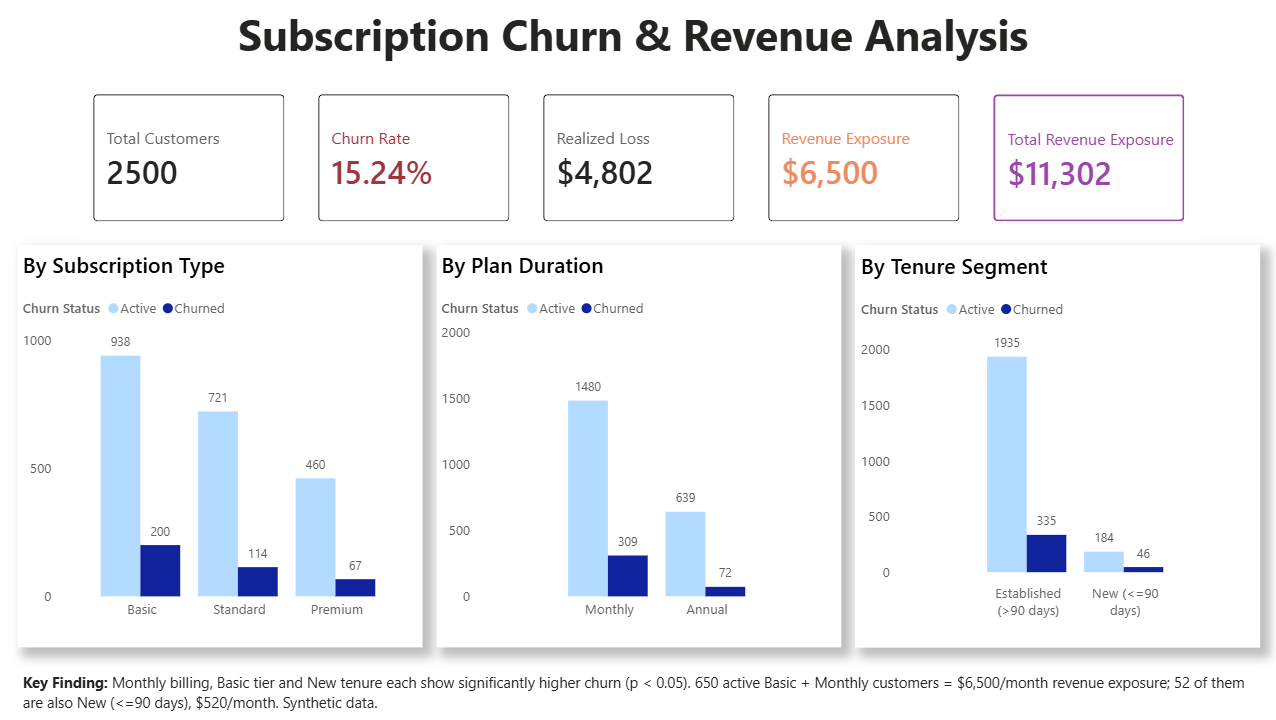

The page's visual inventory and layout, read from the dashboard file:
{"tool":"powerbi","page":{"name":"Page 1","canvas":[1280,720],"ordinal":0},"visuals":[{"type":"clusteredColumnChart","title":"By Subscription Type ","fields":{"Category":["subscription_churn_data.Subscription_Type"],"Series":["subscription_churn_data.Churn_Status"],"Y":["subscription_churn_data.Total Customers"]},"box":[18.3,245,405,402.3],"z":0},{"type":"clusteredColumnChart","title":"By Plan Duration ","fields":{"Category":["subscription_churn_data.Plan_Duration"],"Series":["subscription_churn_data.Churn_Status"],"Y":["subscription_churn_data.Total Customers"]},"box":[437.5,245,405,402.3],"z":1000},{"type":"clusteredColumnChart","title":"By Tenure Segment","fields":{"Category":["subscription_churn_data.Tenure_Segment"],"Series":["subscription_churn_data.Churn_Status"],"Y":["subscription_churn_data.Total Customers"]},"box":[856,245,405,402.3],"z":2000},{"type":"cardVisual","fields":{"Data":["subscription_churn_data.Revenue at Risk"]},"box":[752.5,77.5,225,161.2],"z":3000},{"type":"cardVisual","fields":{"Data":["subscription_churn_data.Realized Loss"]},"box":[527.5,77.5,225,161.2],"z":4000},{"type":"cardVisual","fields":{"Data":["subscription_churn_data.Total Customers"]},"box":[77.5,77.5,225,161.2],"z":5000},{"type":"cardVisual","fields":{"Data":["subscription_churn_data.Churn Rate"]},"box":[302.5,77.5,225,161.2],"z":6000},{"type":"textbox","box":[18.8,0,1242.4,77],"z":7000},{"type":"textbox","box":[18.8,667,1242.5,51.2],"z":8000},{"type":"cardVisual","fields":{"Data":["subscription_churn_data.Total Revenue at Risk"]},"box":[977.5,77.5,225,161.2],"z":9000}]}

Visuals, with their boxes in screenshot pixels (x1, y1, x2, y2), scaled from the page's 1280x720 canvas onto the 1276x720 screenshot:
"By Subscription Type " clusteredColumnChart: locate(18, 245, 422, 647)
"By Plan Duration " clusteredColumnChart: locate(436, 245, 840, 647)
"By Tenure Segment" clusteredColumnChart: locate(853, 245, 1257, 647)
cardVisual - subscription_churn_data.Revenue at Risk: locate(750, 78, 974, 239)
cardVisual - subscription_churn_data.Realized Loss: locate(526, 78, 750, 239)
cardVisual - subscription_churn_data.Total Customers: locate(77, 78, 302, 239)
cardVisual - subscription_churn_data.Churn Rate: locate(302, 78, 526, 239)
textbox: locate(19, 0, 1257, 77)
textbox: locate(19, 667, 1257, 718)
cardVisual - subscription_churn_data.Total Revenue at Risk: locate(974, 78, 1199, 239)
